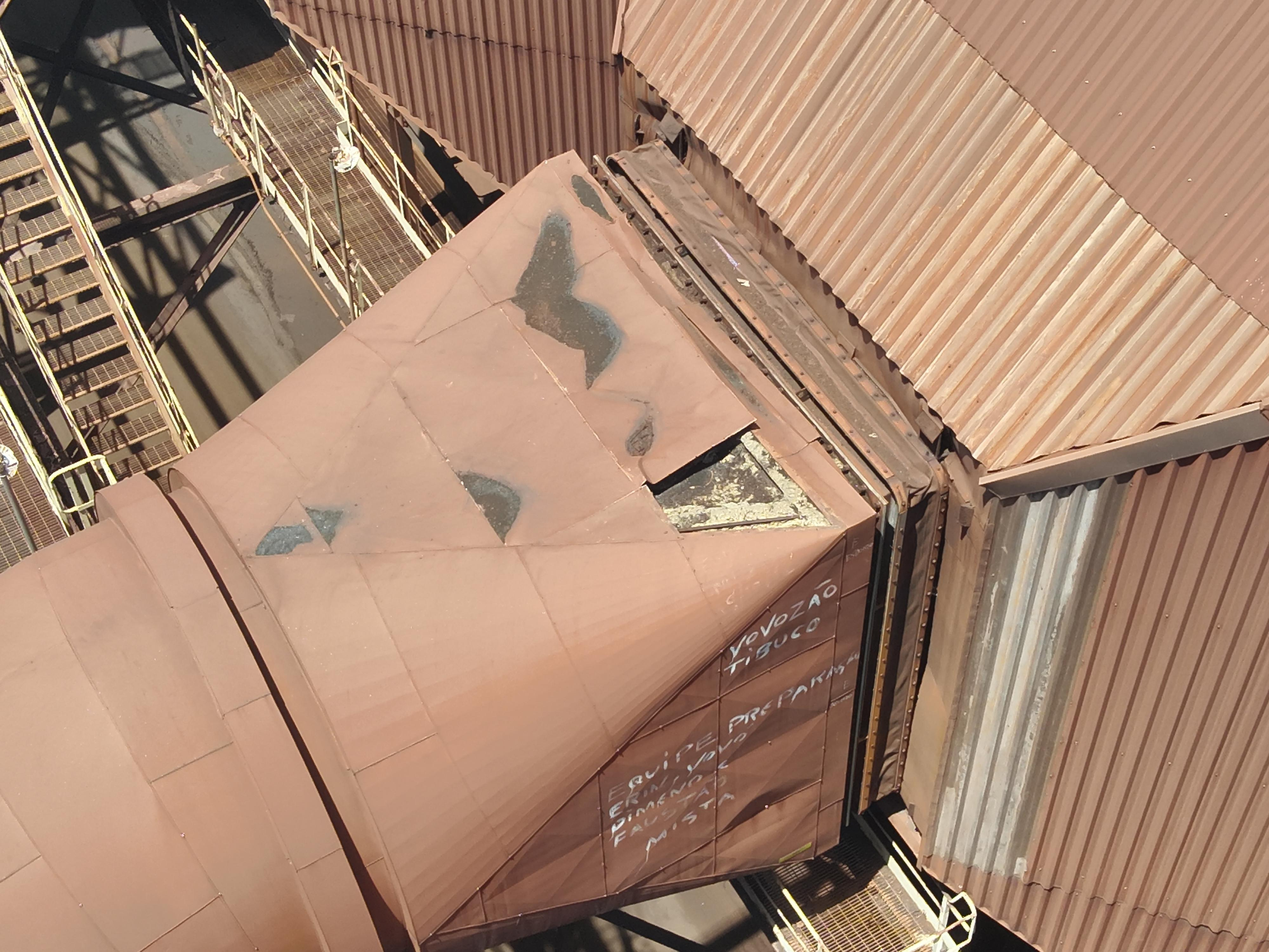Failures: (649, 428, 843, 542)
